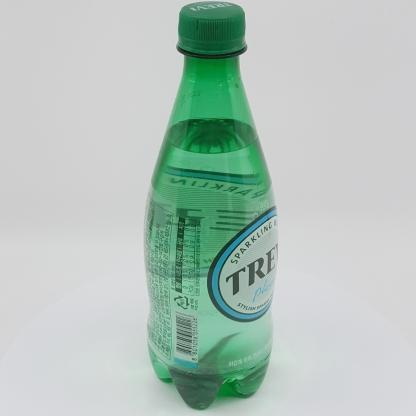---------PET-500ML: (143, 1, 278, 410)
